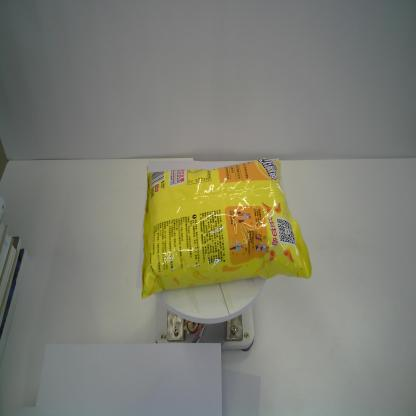Puffed Food: (140, 158, 313, 299)
